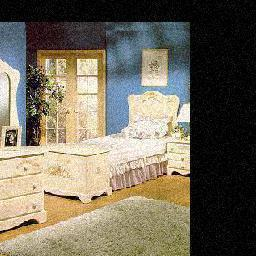Armario: (0, 155, 50, 228)
